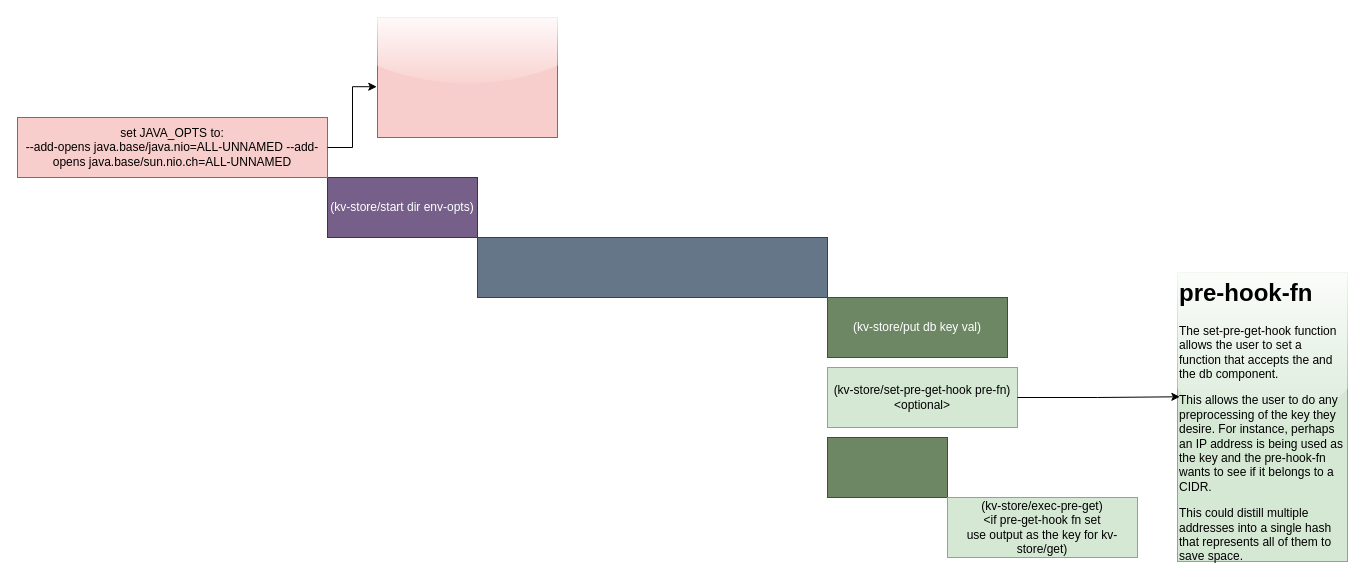
Some shapes in this 1365 by 582 pixel diagram are drawn without their labels. Each missing label, with the centre of its shape:
"(kv-store/get db key" belongs at (887,467).
"(kv-store/open-db db-env db-name key-serde val-serde db-opts)" belongs at (652,267).
"Important! If the JAVA_OPTS aren't set, the kv-store will fail to start up!" belongs at (467,77).
